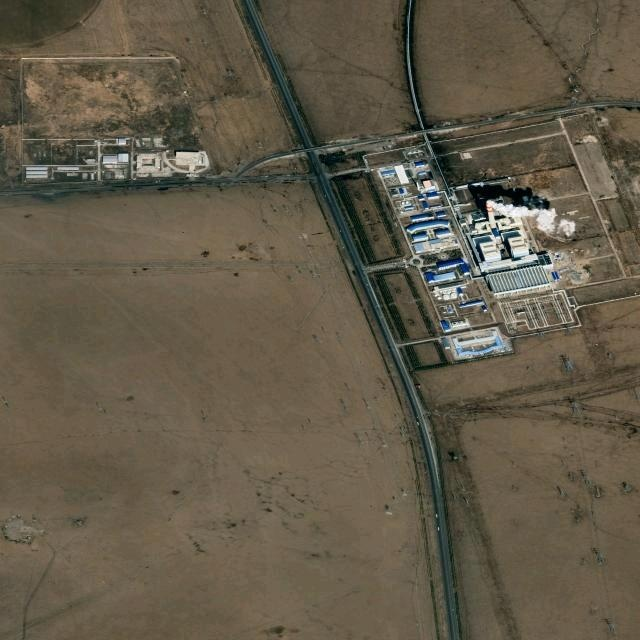coal_fired_power_plant: (465, 186, 555, 299)
